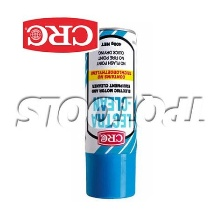aerosol_cans: (82, 26, 140, 202)
